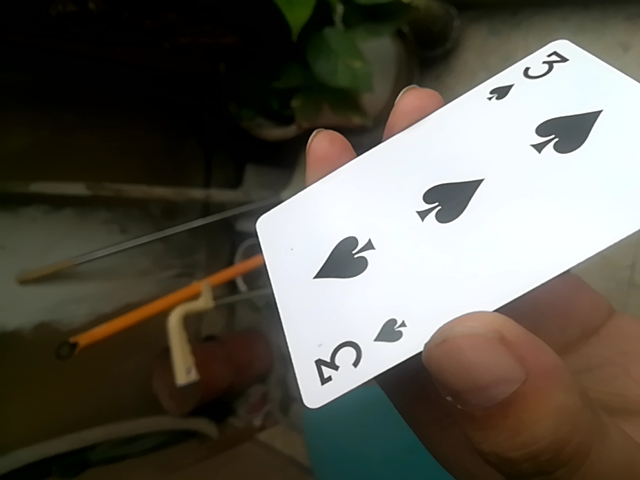ht 3: (240, 36, 639, 416)
